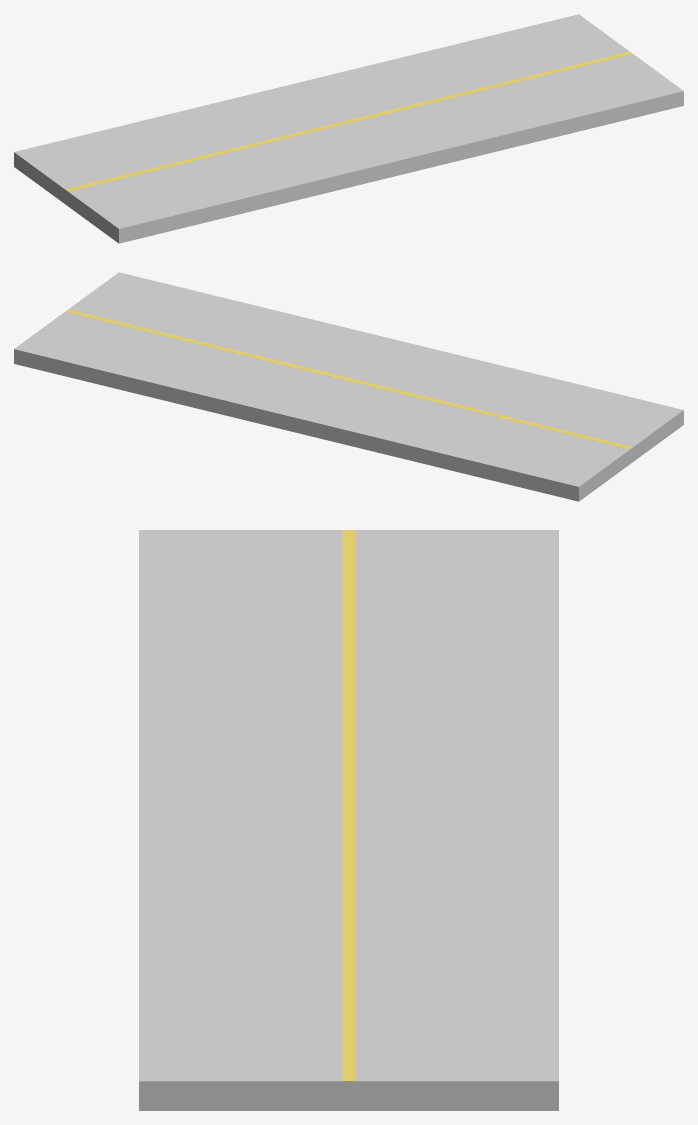
File: Road1.fbx
3 renders of one model, top to bottom at view 1: azimuth 30°, elevation 25°; view 2: azimuth 150°, elevation 25°; view 3: azimuth 270°, elevation 25°, orthographic. The views are drawn at different scales.
Visible parts, largest first — view 1: Cube; view 2: Cube; view 3: Cube.
Part boxes in pixels (x1,y1,x2,y2): Cube: (14, 14, 683, 243); Cube: (14, 272, 683, 501); Cube: (139, 530, 558, 1110).
Size of the model in its own units: 800 by 20.08 by 258.
